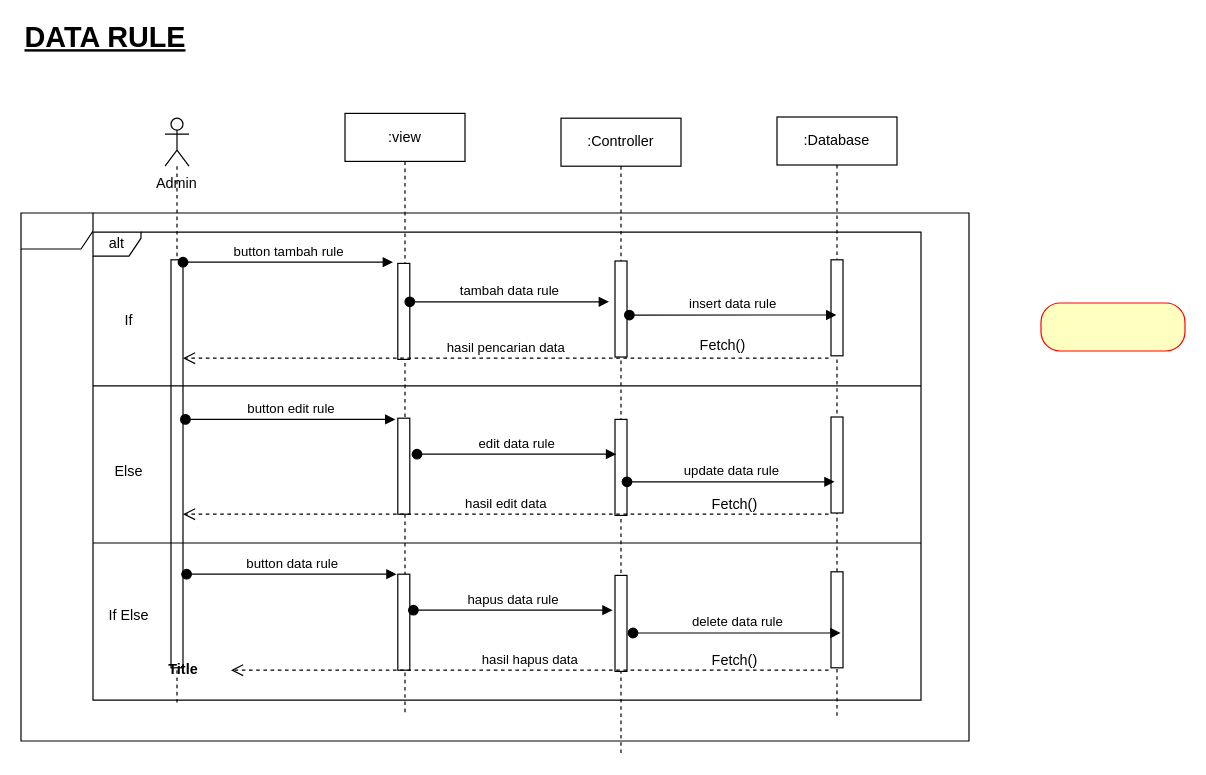
Image size: 1206x775. Some labels were removed from this diagram. Here are the shapes that lost their labels. From the top down, the box of each, then its label:
(1040, 302, 1185, 351): Activity
(20, 212, 969, 741): frame
